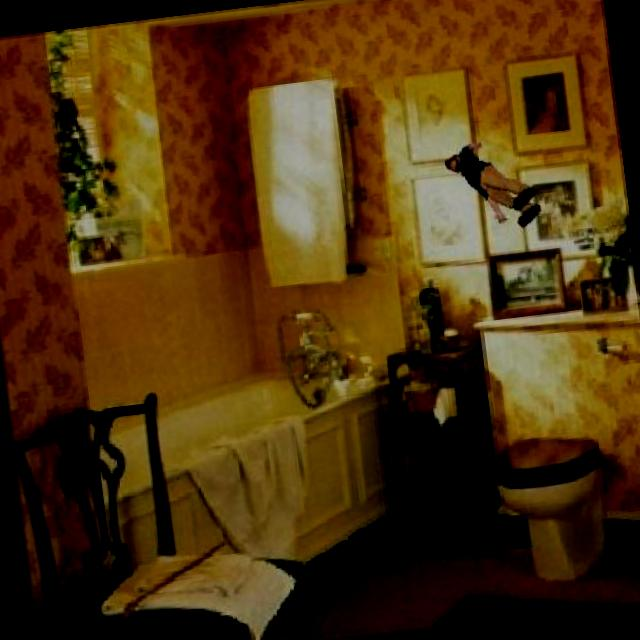Person: (438, 130, 544, 240)
